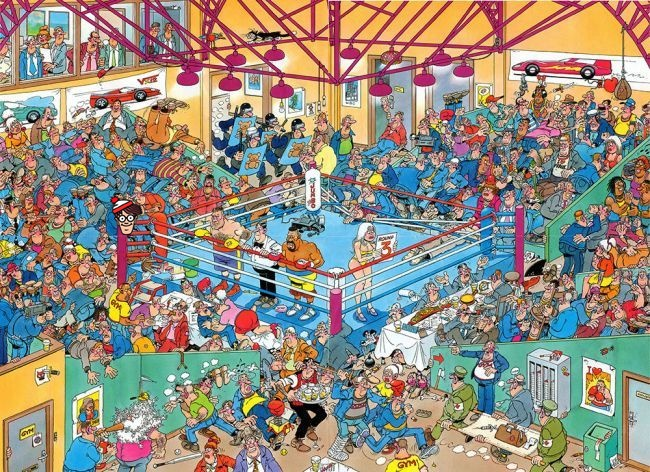waldo: (110, 195, 143, 235)
